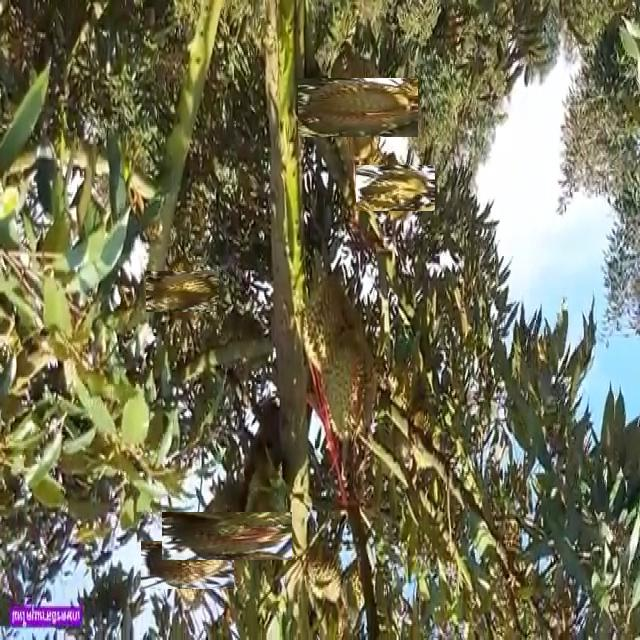durian: (312, 63, 402, 153), (182, 491, 271, 581), (318, 322, 378, 448), (300, 267, 368, 378), (152, 530, 223, 601), (288, 536, 346, 620), (364, 157, 427, 220), (154, 262, 211, 320)
